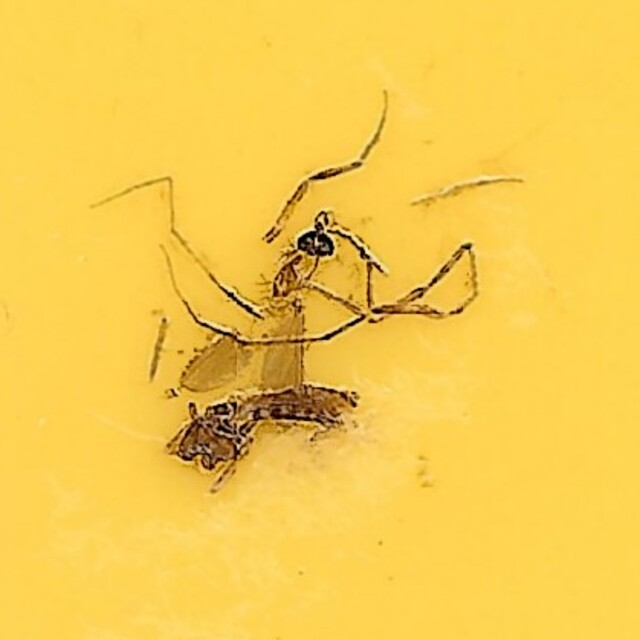Nematocera: (153, 153, 487, 487)
